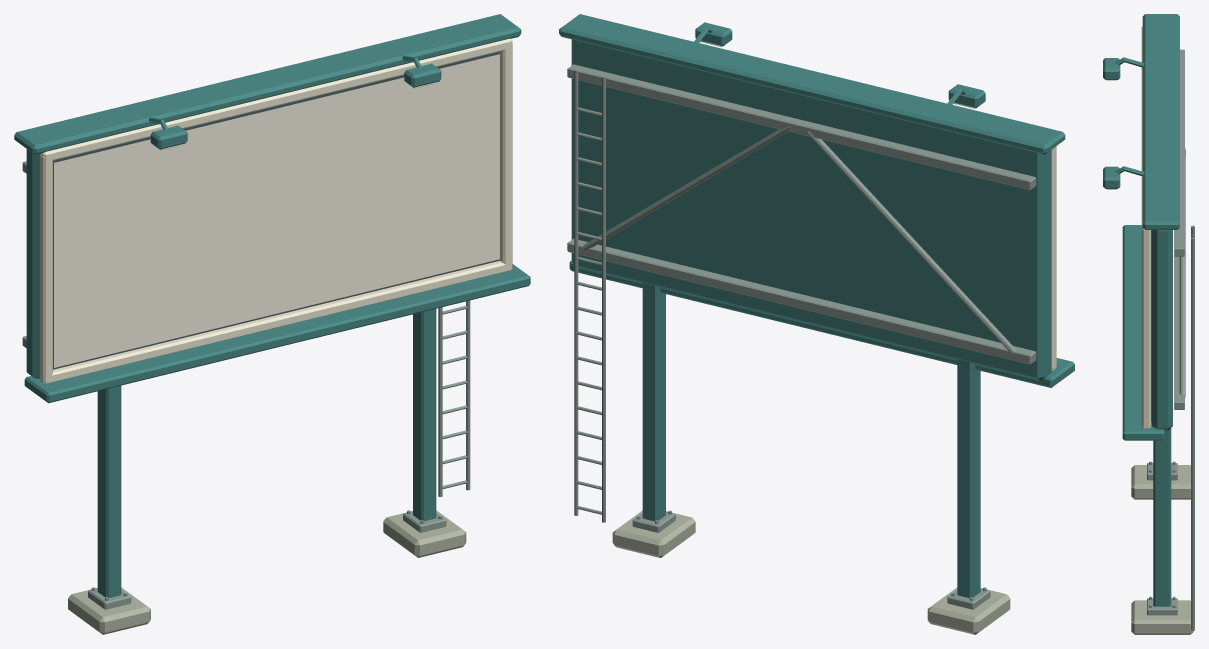
The model's file is billboard_blank.glb.
The picture shows the model from 3 angles, left to right: view 1: azimuth 30°, elevation 25°; view 2: azimuth 150°, elevation 25°; view 3: azimuth 270°, elevation 25°; orthographic projection. The views are drawn at different scales.
Parts seen in each view (by area): view 1: Billboard_Display, billboard_blank; view 2: billboard_blank; view 3: billboard_blank.
Part boxes in pixels (x1,y1,x2,y2): Billboard_Display: [54, 54, 499, 367]; billboard_blank: [14, 14, 530, 634]; billboard_blank: [559, 14, 1074, 634]; billboard_blank: [1103, 14, 1194, 634].
Size of the model in its own units: 6.36 by 6.3 by 1.17.
